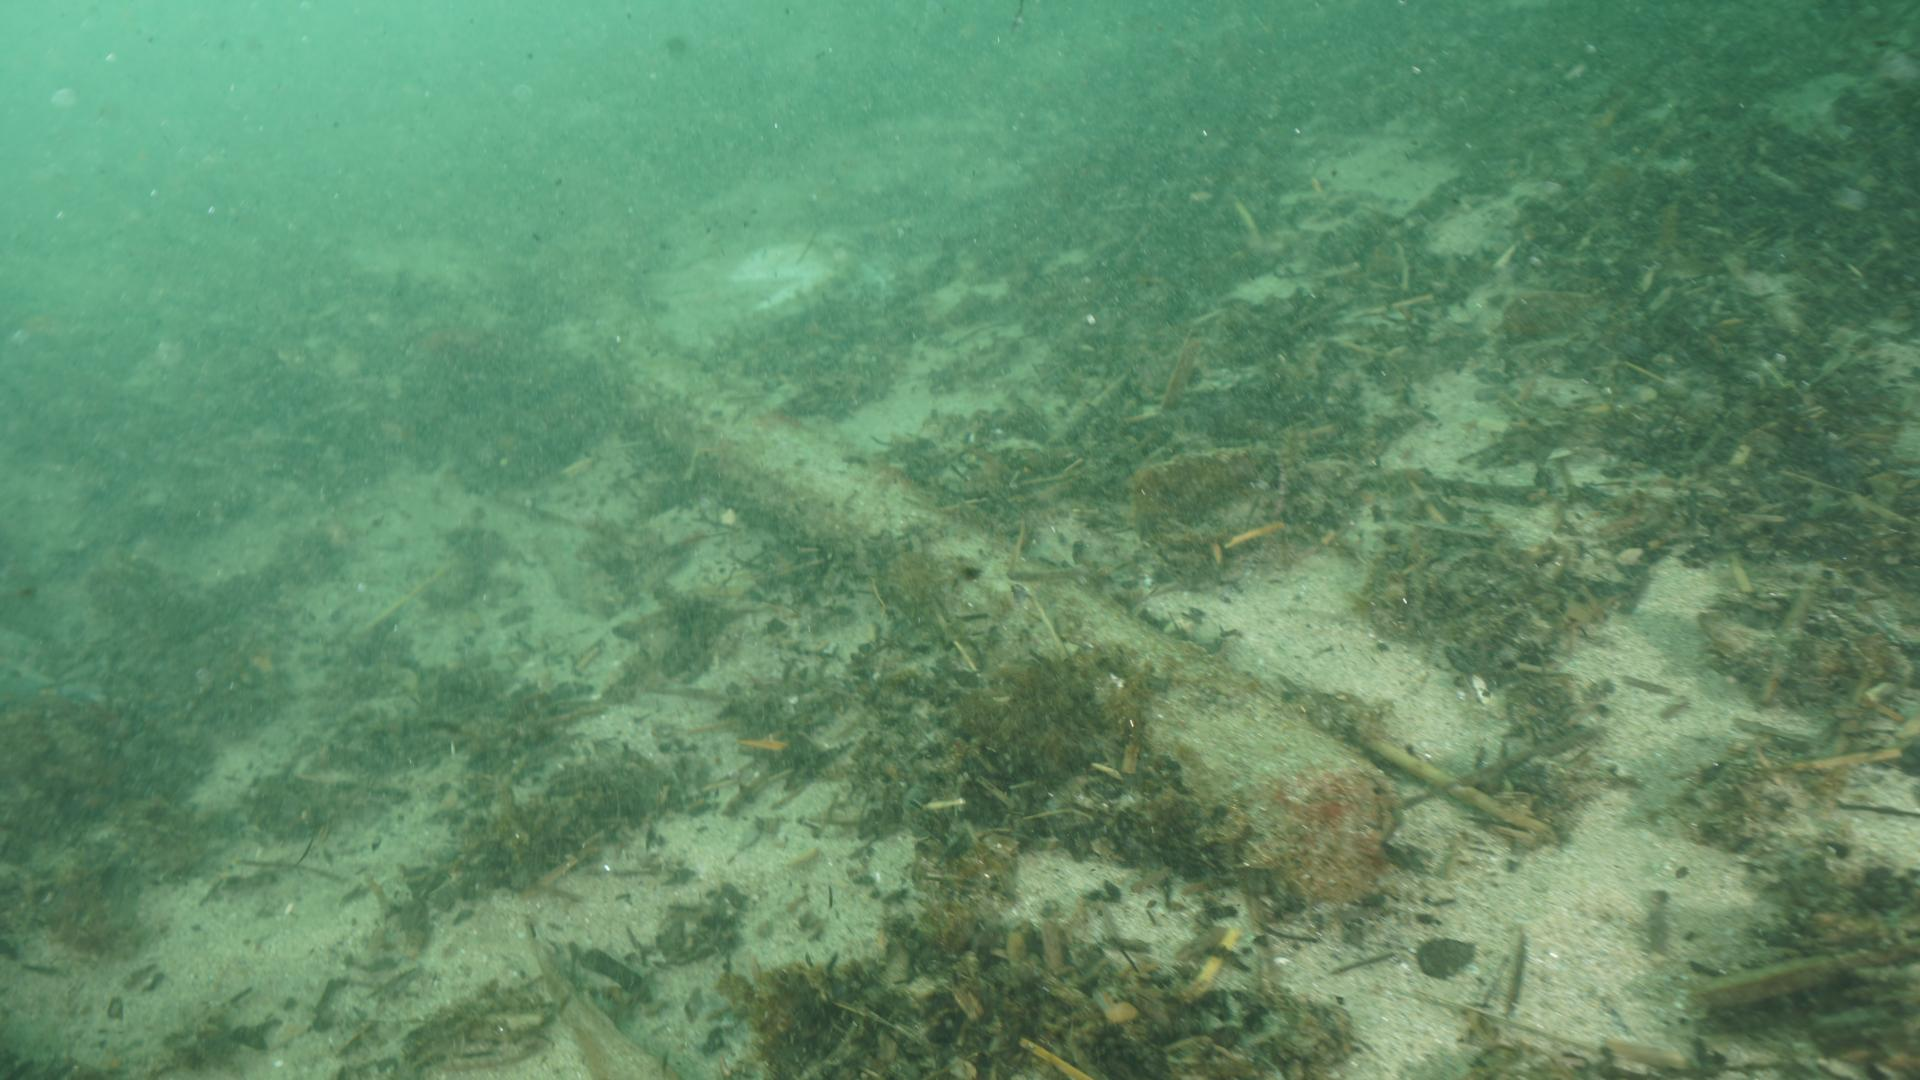wood: (533, 320, 1400, 901)
